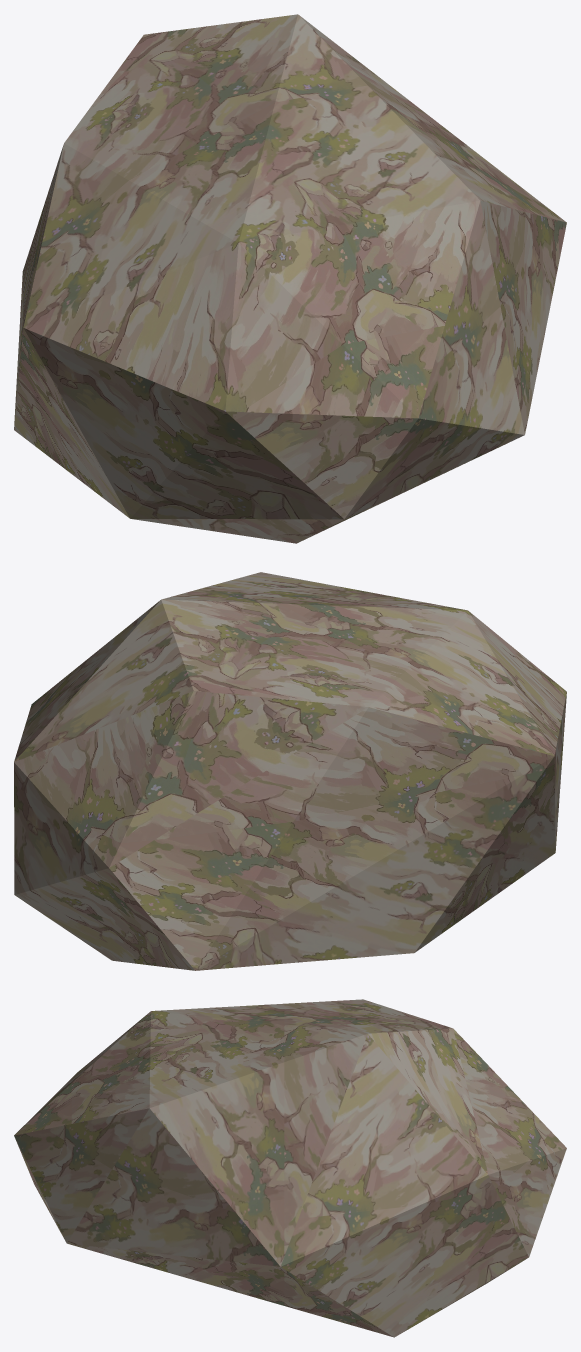
Rendered from Rock2.glb.
3 renders of one model, top to bottom at view 1: azimuth 30°, elevation 25°; view 2: azimuth 150°, elevation 25°; view 3: azimuth 270°, elevation 25°, orthographic. The views are drawn at different scales.
Parts seen in each view (by area): view 1: Rock.002; view 2: Rock.002; view 3: Rock.002.
Boxes of the visible parts, <box> form: Rock.002: <box>14,14,566,543</box>; Rock.002: <box>14,572,566,970</box>; Rock.002: <box>14,999,566,1337</box>.
Size of the model in its own units: 1.97 by 1.16 by 2.24.
Materials: 1 (1 with a texture image).
